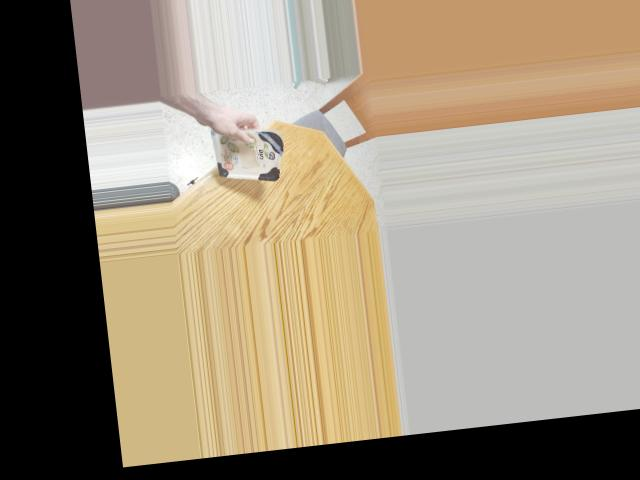cheese: (208, 116, 288, 188)
